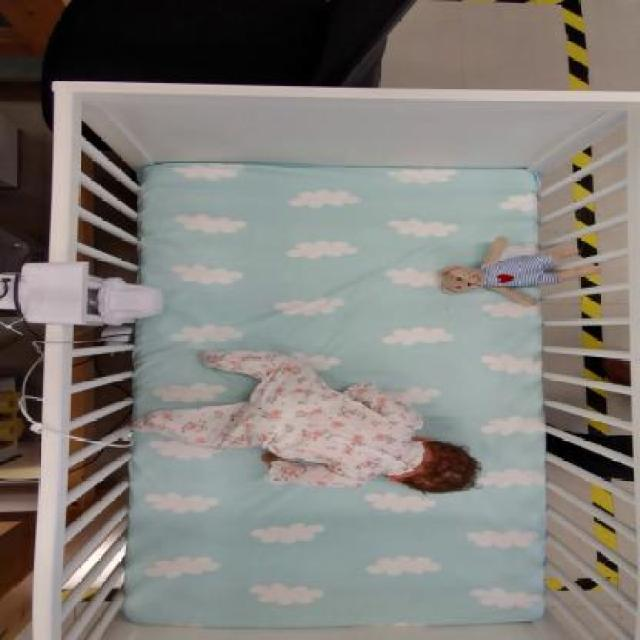baby: (128, 349, 484, 497)
